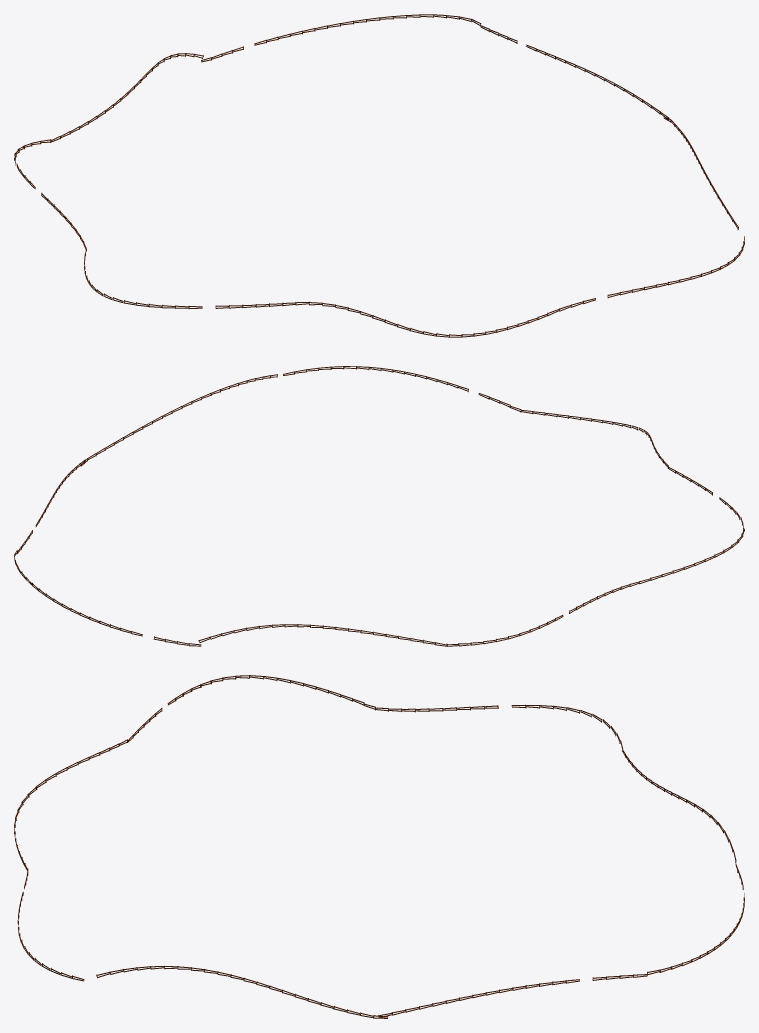
Rendered from Fence.FBX.
The picture shows the model from 3 angles, top to bottom: view 1: azimuth 30°, elevation 25°; view 2: azimuth 150°, elevation 25°; view 3: azimuth 270°, elevation 25°; orthographic projection. The views are drawn at different scales.
Size of the model in its own units: 190673 by 185649 by 8877.
